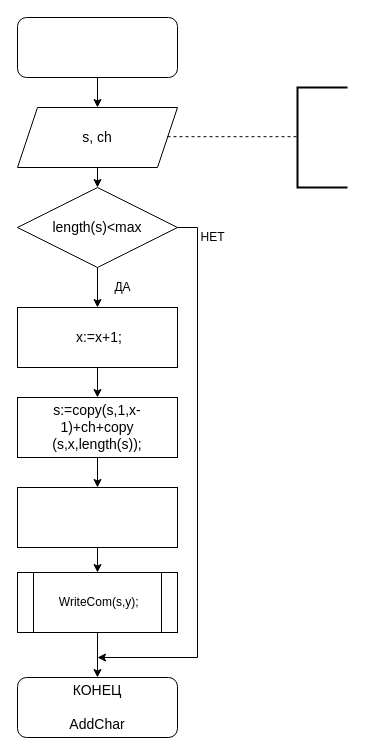
Some shapes in this 391 by 755 pixel diagram are drawn without their labels. Each missing label, with the centre of its shape:
"AddChar НАЧАЛО" goes at [97,47].
"s - строка ch - символ" goes at [322,137].
"y:=(length(h)+length(s)+2) div windowSize;" goes at [97,517].
